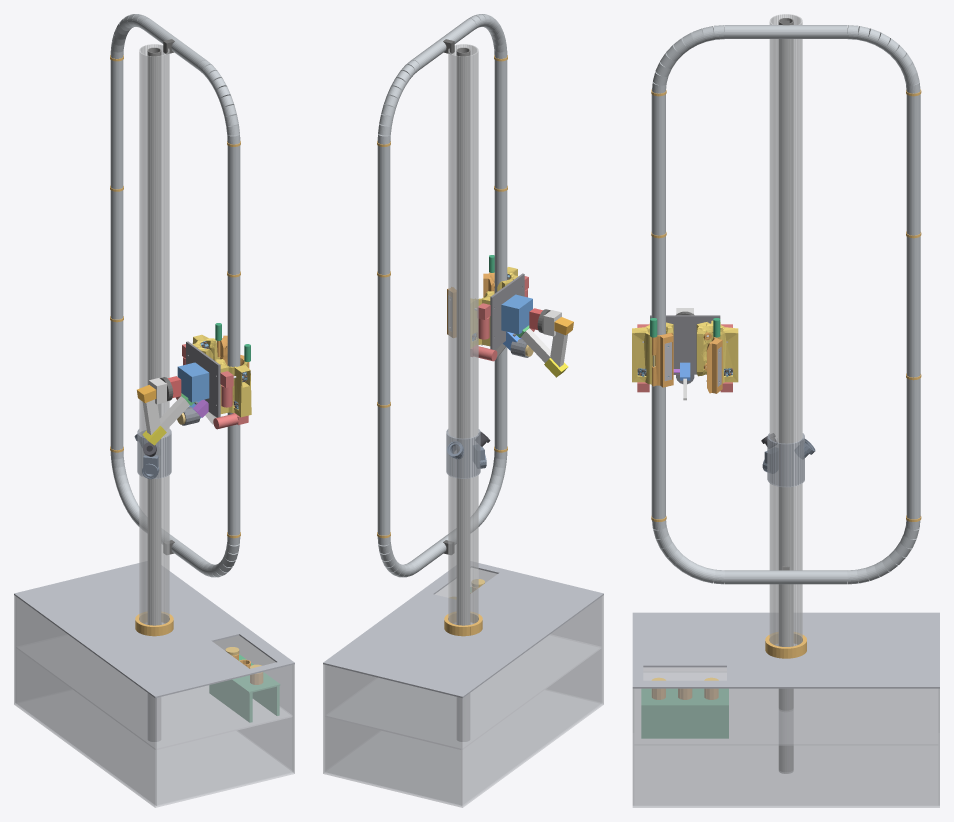
Rendered from transplant-seedling-step2-drive-v8.glb.
The picture shows the model from 3 angles, left to right: view 1: azimuth 30°, elevation 25°; view 2: azimuth 150°, elevation 25°; view 3: azimuth 270°, elevation 25°; orthographic projection. The views are drawn at different scales.
Size of the model in its own units: 0.4 by 1.9 by 0.701.
